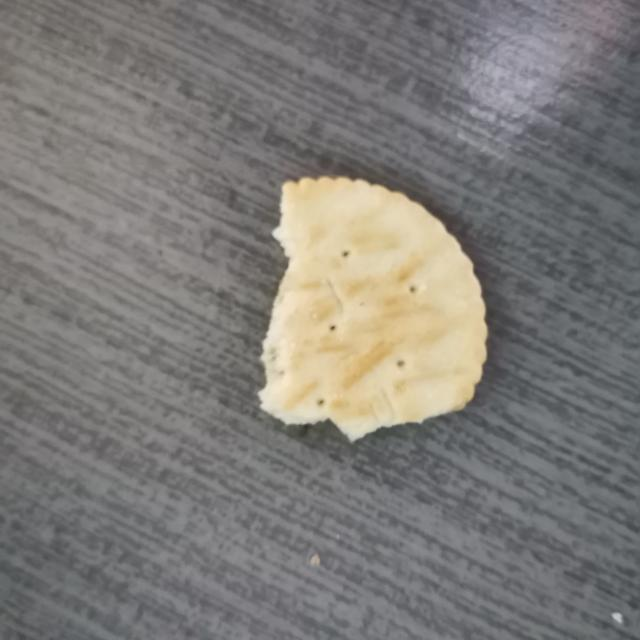Broken: (256, 174, 489, 443)
